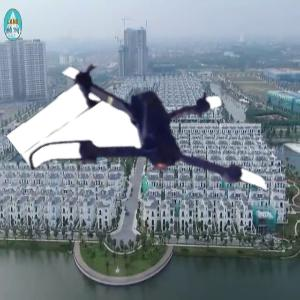drone: (42, 30, 271, 259)
